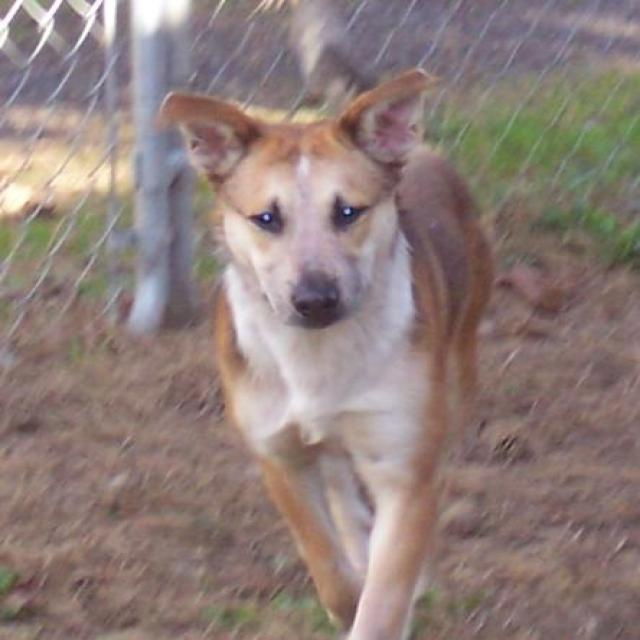Dogs: (153, 64, 496, 639)
